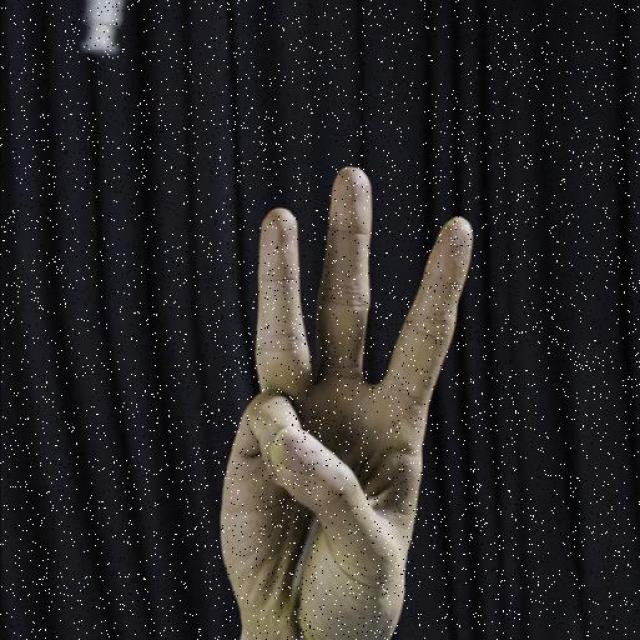W: (215, 160, 478, 640)
